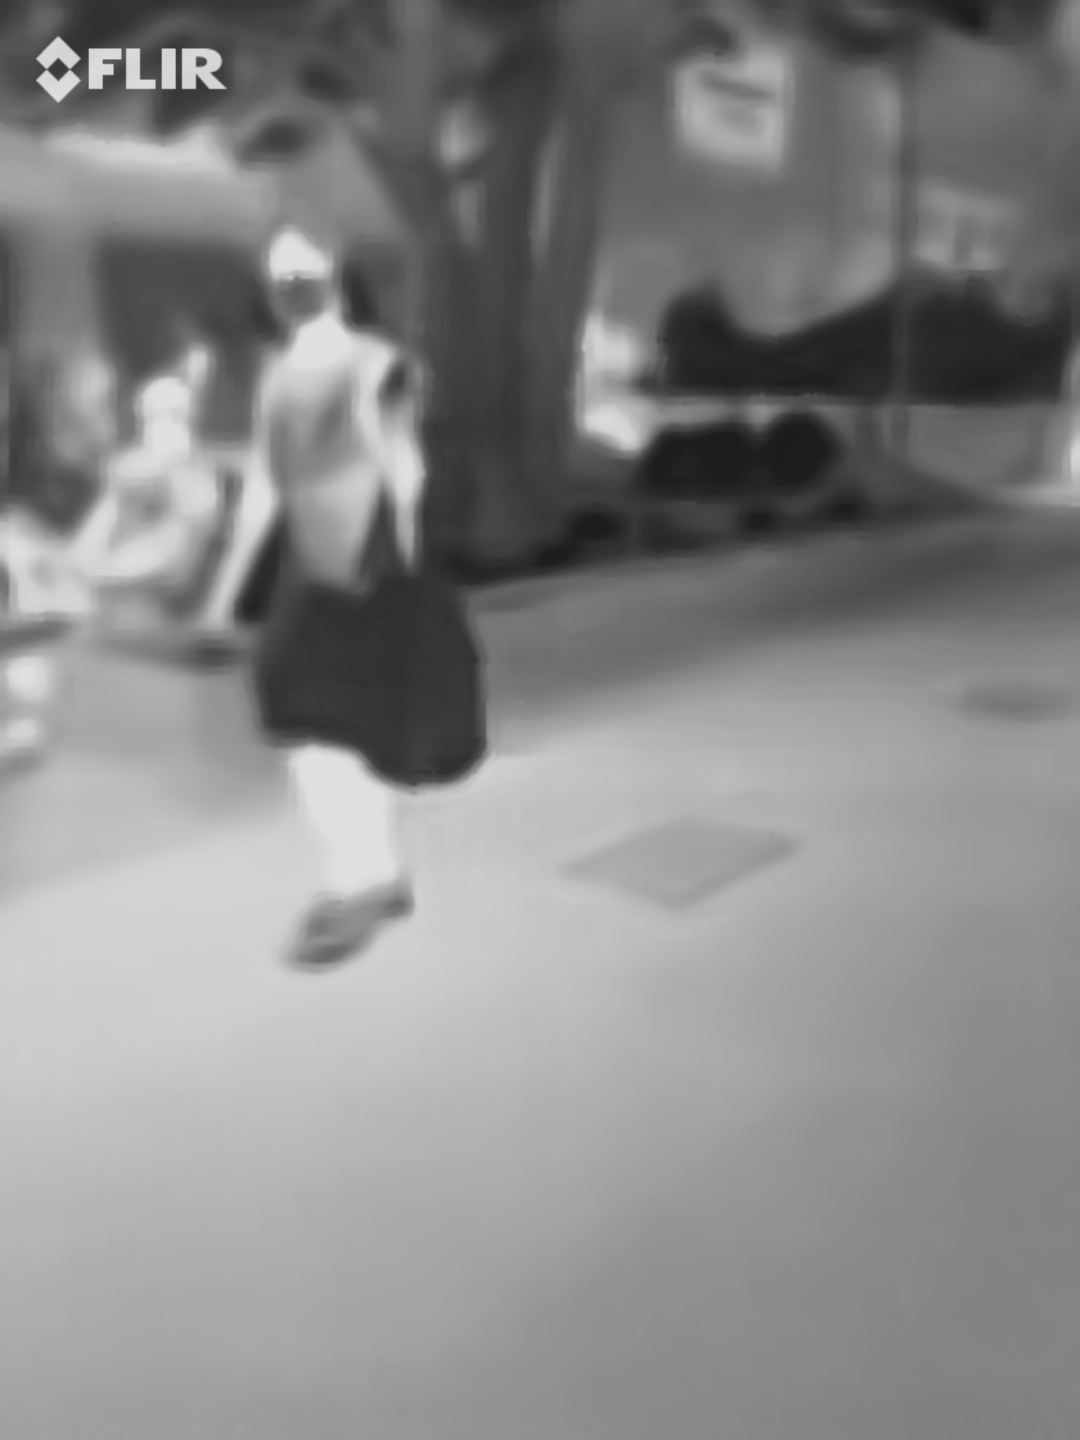head: (262, 215, 339, 330)
